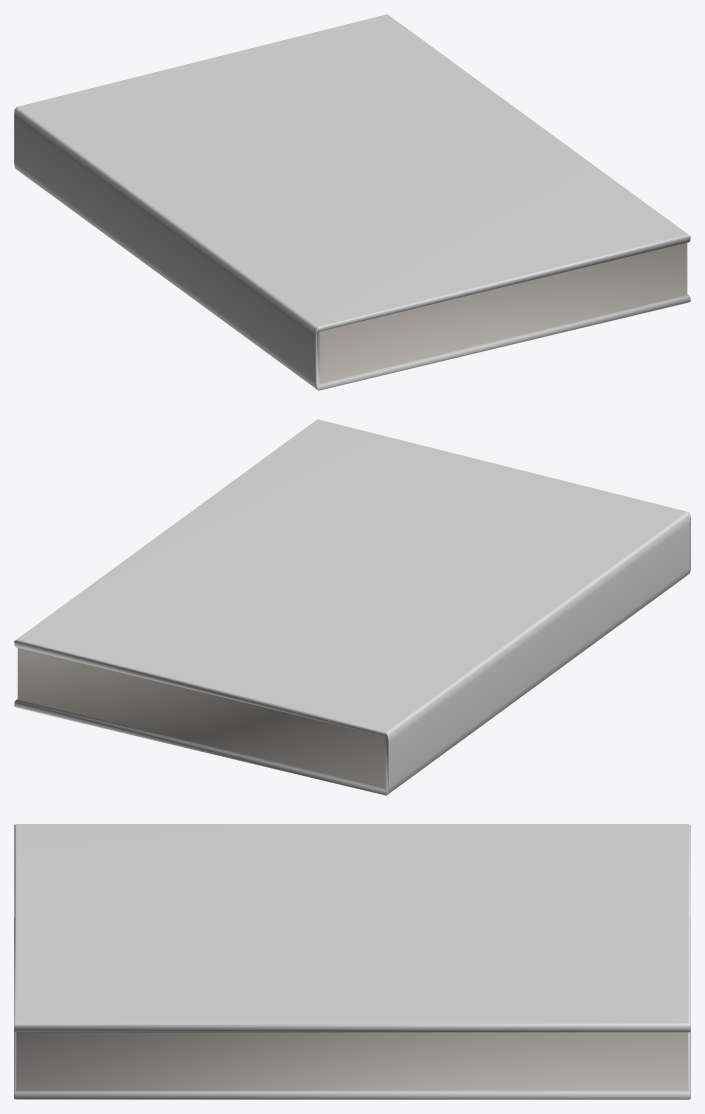
Rendered from Buch.fbx.
The picture shows the model from 3 angles, top to bottom: view 1: azimuth 30°, elevation 25°; view 2: azimuth 150°, elevation 25°; view 3: azimuth 270°, elevation 25°; orthographic projection. The views are drawn at different scales.
Parts seen in each view (by area): view 1: Buch; view 2: Buch; view 3: Buch.
Part boxes in pixels (box(x1,y1,x2,y2)): Buch: box(14, 14, 690, 390); Buch: box(14, 419, 690, 795); Buch: box(14, 824, 690, 1099).
Size of the model in its own units: 22.04 by 3.87 by 30.82.
